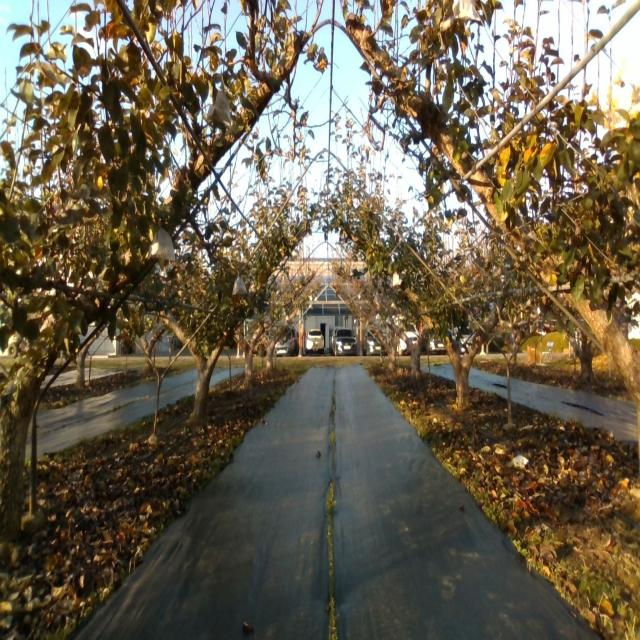pearbags: (146, 229, 176, 263), (206, 89, 232, 121), (452, 0, 482, 21), (232, 274, 246, 293)
